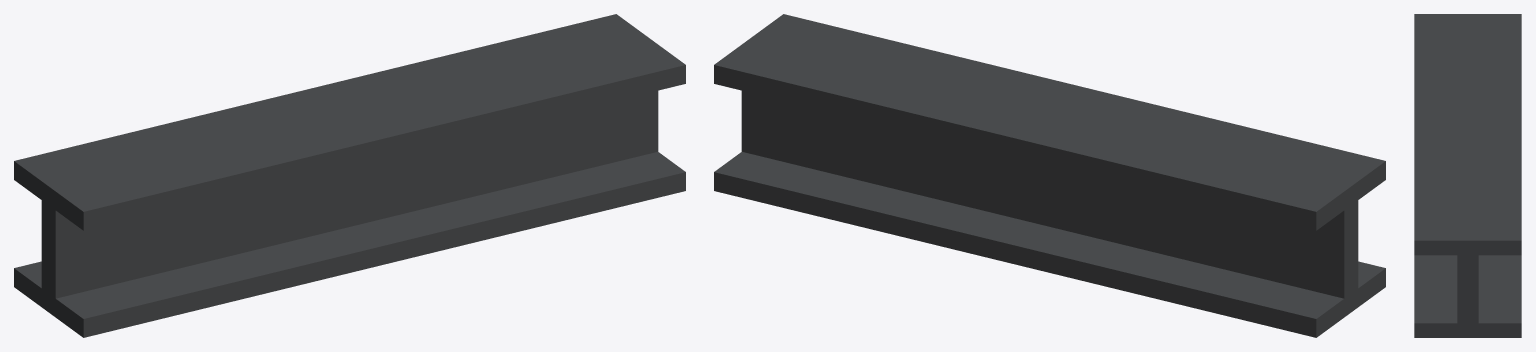
Rendered from T_Traeger_Horizontal.obj.
3 renders of one model, left to right at view 1: azimuth 30°, elevation 25°; view 2: azimuth 150°, elevation 25°; view 3: azimuth 270°, elevation 25°, orthographic. The views are drawn at different scales.
Parts seen in each view (by area): view 1: T-Träger_1; view 2: T-Träger_1; view 3: T-Träger_1.
Part boxes in pixels (left/top/right/bottom): T-Träger_1: left=14, top=14, right=685, bottom=337; T-Träger_1: left=714, top=14, right=1385, bottom=337; T-Träger_1: left=1414, top=14, right=1521, bottom=337.
Size of the model in its own units: 2 by 0.4 by 0.4.
